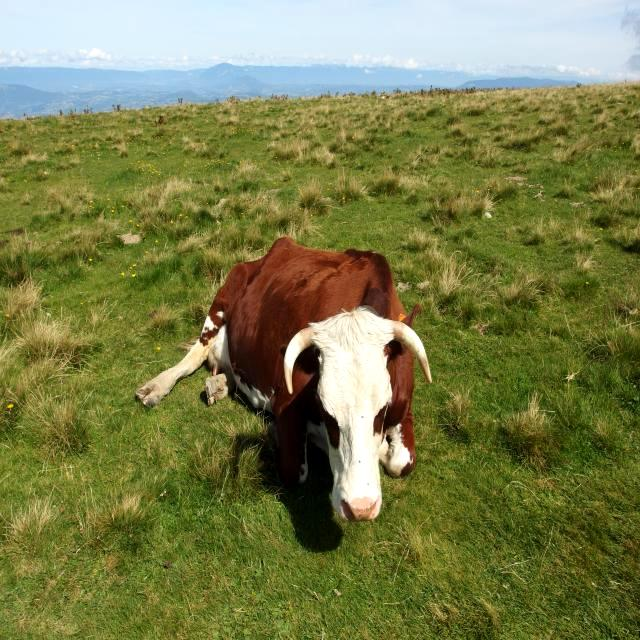COW: (136, 238, 431, 522)
